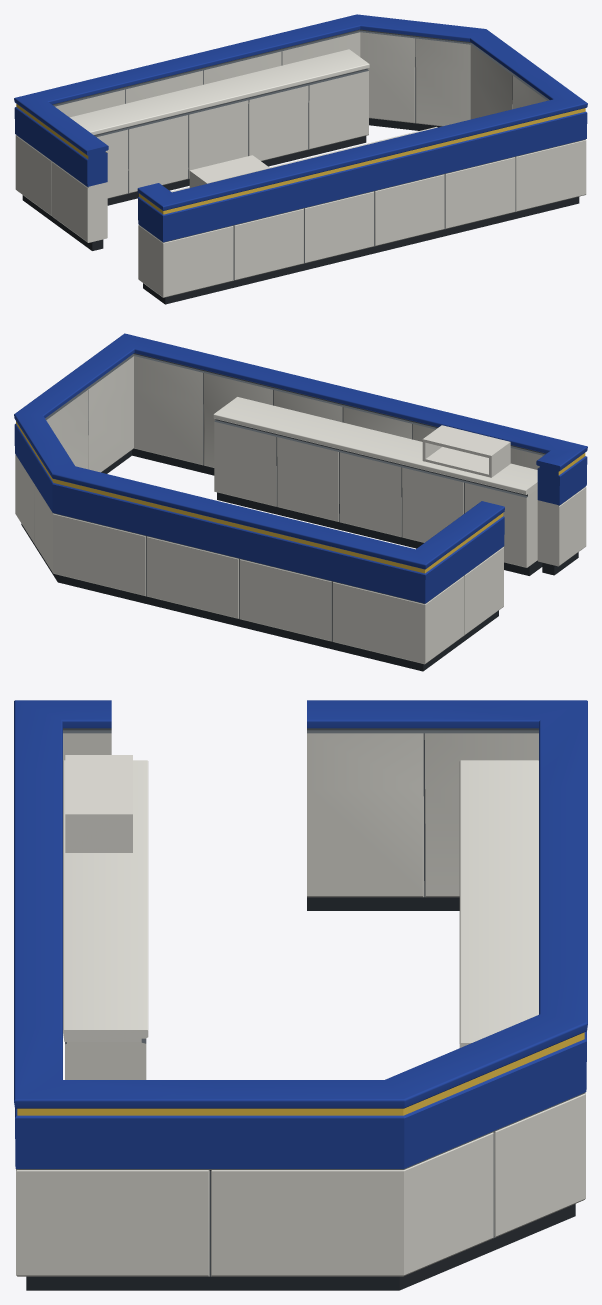
File: exit-return-counter.glb
The picture shows the model from 3 angles, top to bottom: view 1: azimuth 30°, elevation 25°; view 2: azimuth 150°, elevation 25°; view 3: azimuth 270°, elevation 25°; orthographic projection. The views are drawn at different scales.
Parts seen in each view (by area): view 1: ExitReturnCounter; view 2: ExitReturnCounter; view 3: ExitReturnCounter.
Part boxes in pixels (box(x1,y1,x2,y2)): ExitReturnCounter: box(14, 14, 587, 304); ExitReturnCounter: box(14, 333, 587, 671); ExitReturnCounter: box(14, 700, 587, 1290).
Size of the model in its own units: 15.5 by 3.54 by 9.4.
